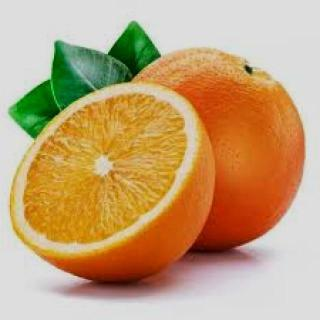orange: (5, 84, 219, 290), (141, 37, 311, 263)
